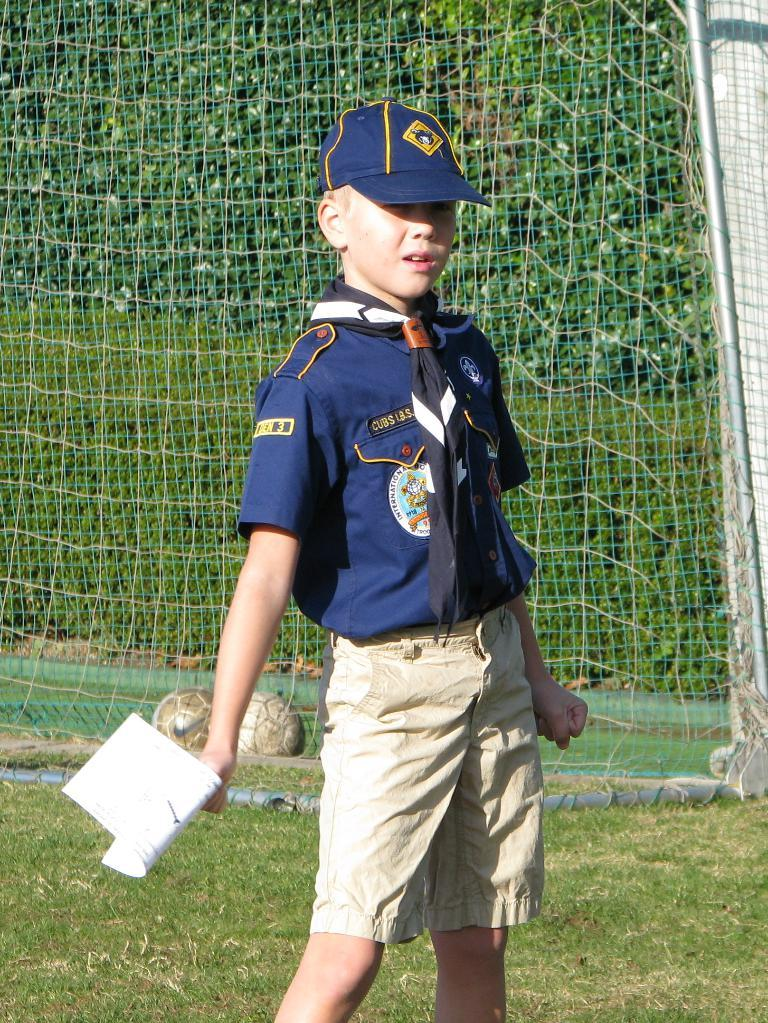Hat: (314, 94, 494, 208)
